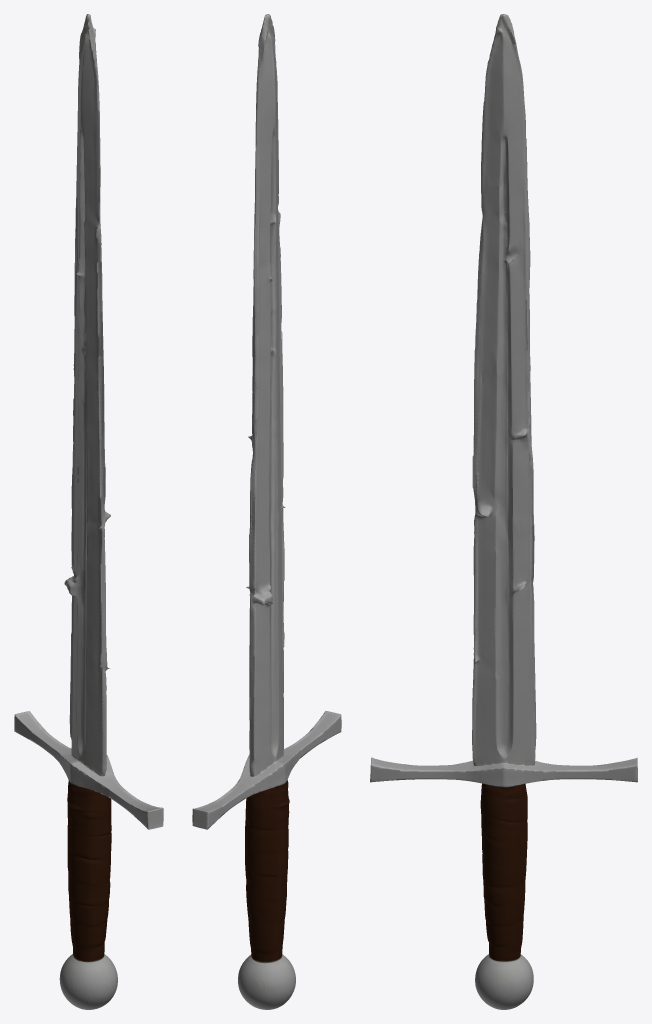
Rendered from longsword+3d+model.fbx.
3 renders of one model, left to right at view 1: azimuth 30°, elevation 25°; view 2: azimuth 150°, elevation 25°; view 3: azimuth 270°, elevation 25°, orthographic.
Parts seen in each view (by area): view 1: tripo_node_6c7f4f54; view 2: tripo_node_6c7f4f54; view 3: tripo_node_6c7f4f54.
Part boxes in pixels (x1=…): tripo_node_6c7f4f54: x1=14, y1=14, x2=163, y2=1009; tripo_node_6c7f4f54: x1=192, y1=14, x2=341, y2=1009; tripo_node_6c7f4f54: x1=370, y1=14, x2=637, y2=1009.
Bounding box in the file's own units: 0.0528 × 1 × 0.2448.
Materials: 1 (1 with a texture image).
